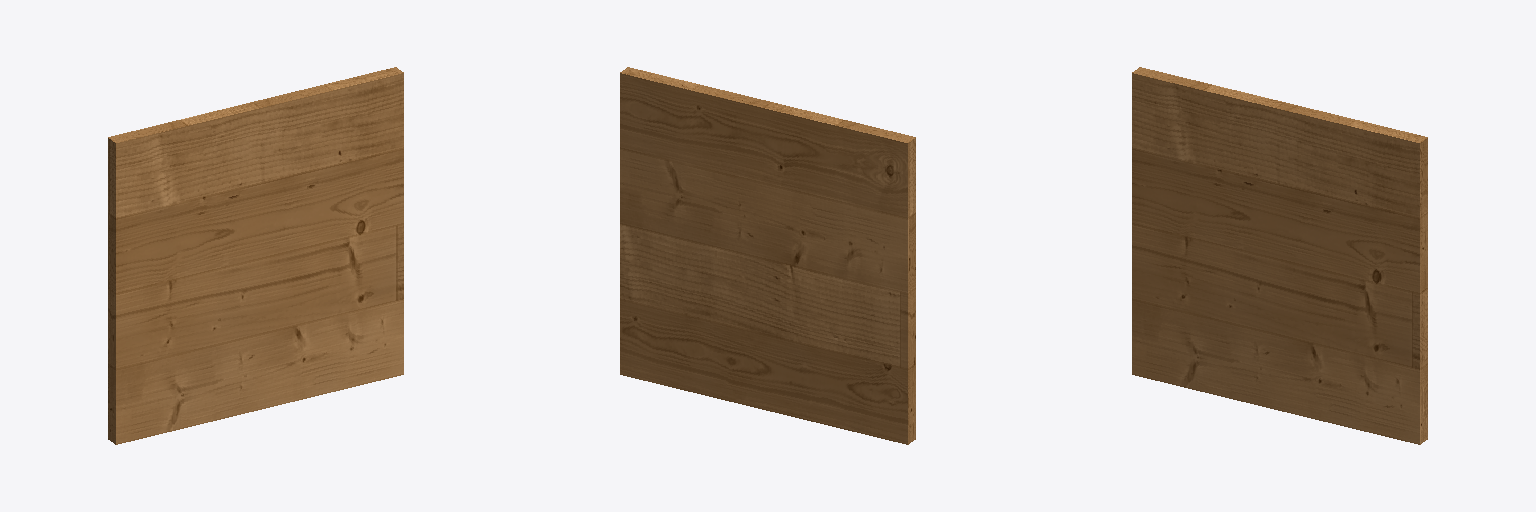
3 views of the same model, side by side, from view 1: azimuth 30°, elevation 25°; view 2: azimuth 150°, elevation 25°; view 3: azimuth 330°, elevation 25° (orthographic).
Visible parts, largest first — view 1: Cube; view 2: Cube; view 3: Cube.
Part boxes in pixels (left/top/right/bottom): Cube: left=108, top=67, right=403, bottom=444; Cube: left=620, top=67, right=915, bottom=444; Cube: left=1132, top=67, right=1427, bottom=444.
Bounding box in the file's own units: 5 × 5 × 0.25.
1 materials, 1 textured.